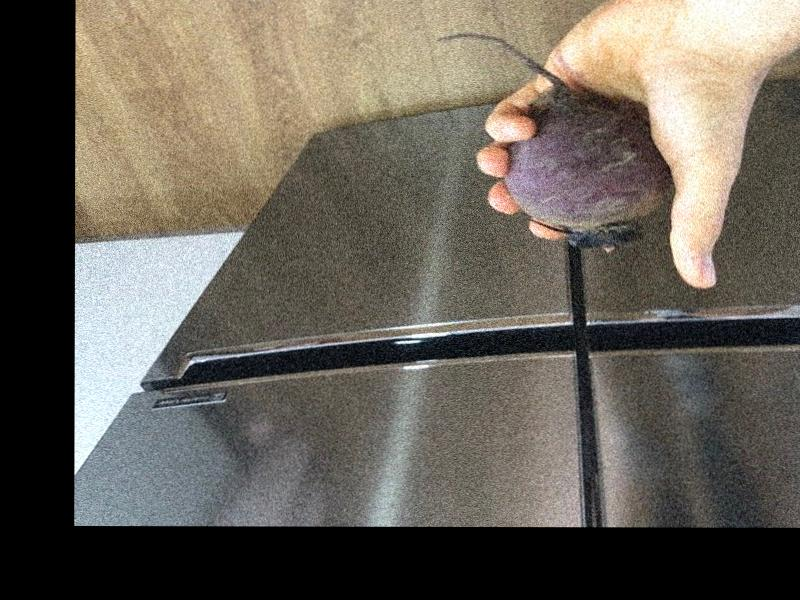Beet: (434, 35, 672, 251)
